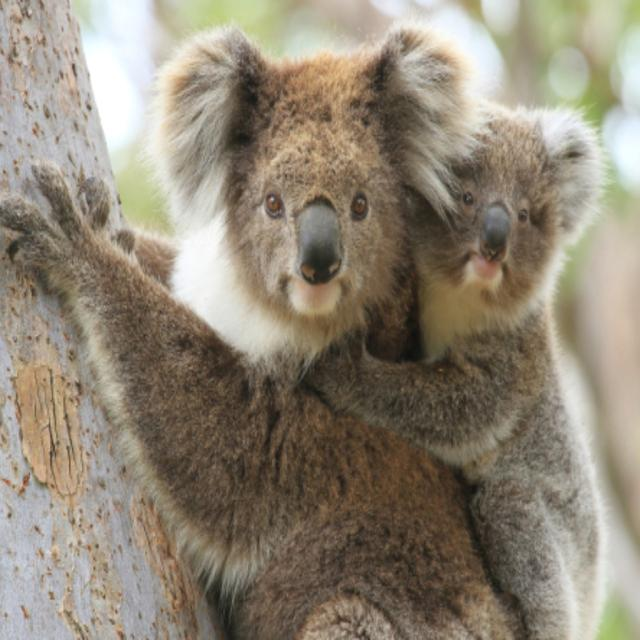Koala: (43, 32, 456, 640), (440, 99, 602, 621)
